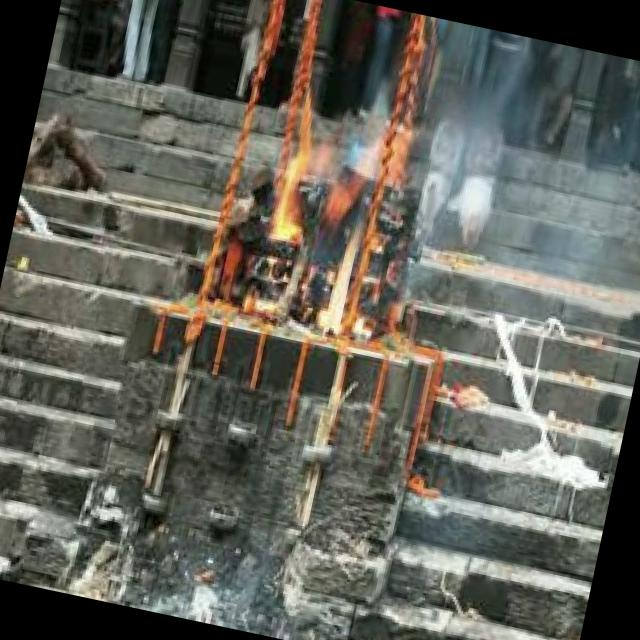Smoke: (244, 97, 405, 346)
